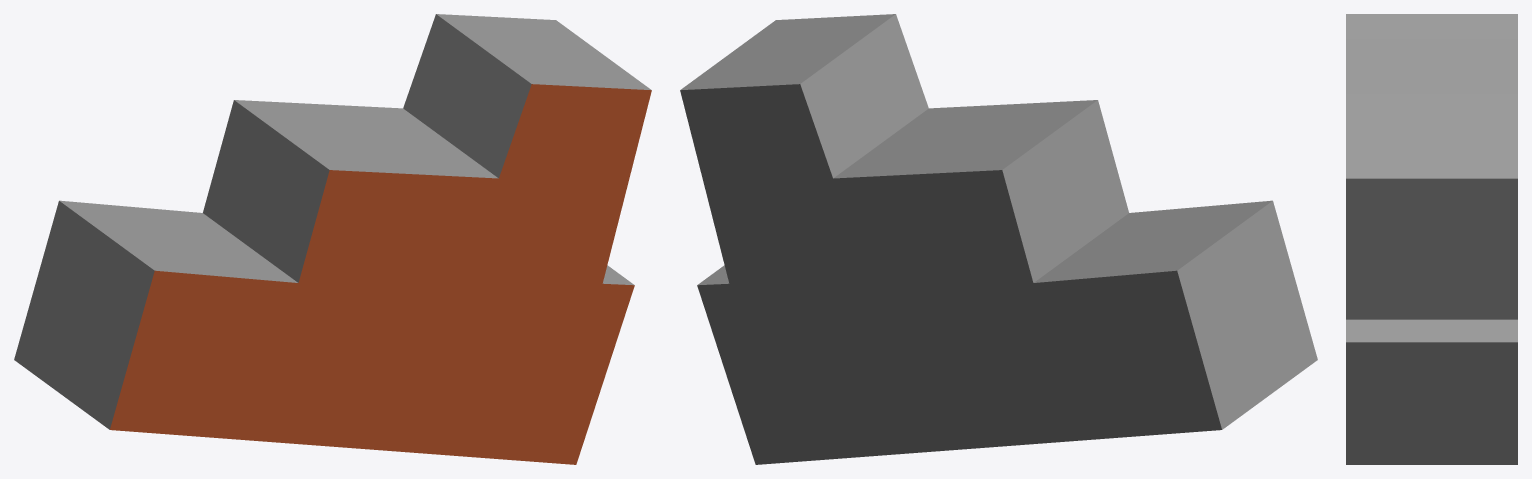
The model's file is construction_1124_assumed_A_Casa_h6m.obj.
3 views of the same model, side by side, from view 1: azimuth 30°, elevation 25°; view 2: azimuth 150°, elevation 25°; view 3: azimuth 270°, elevation 25° (orthographic). The views are drawn at different scales.
Visible parts, largest first — view 1: construction_1124_assumed_A_Casa; view 2: construction_1124_assumed_A_Casa; view 3: construction_1124_assumed_A_Casa.
Part boxes in pixels (left/top/right/bottom): construction_1124_assumed_A_Casa: left=14, top=14, right=651, bottom=464; construction_1124_assumed_A_Casa: left=680, top=14, right=1317, bottom=464; construction_1124_assumed_A_Casa: left=1346, top=14, right=1517, bottom=464.
Size of the model in its own units: 19.61 by 13.54 by 6.
